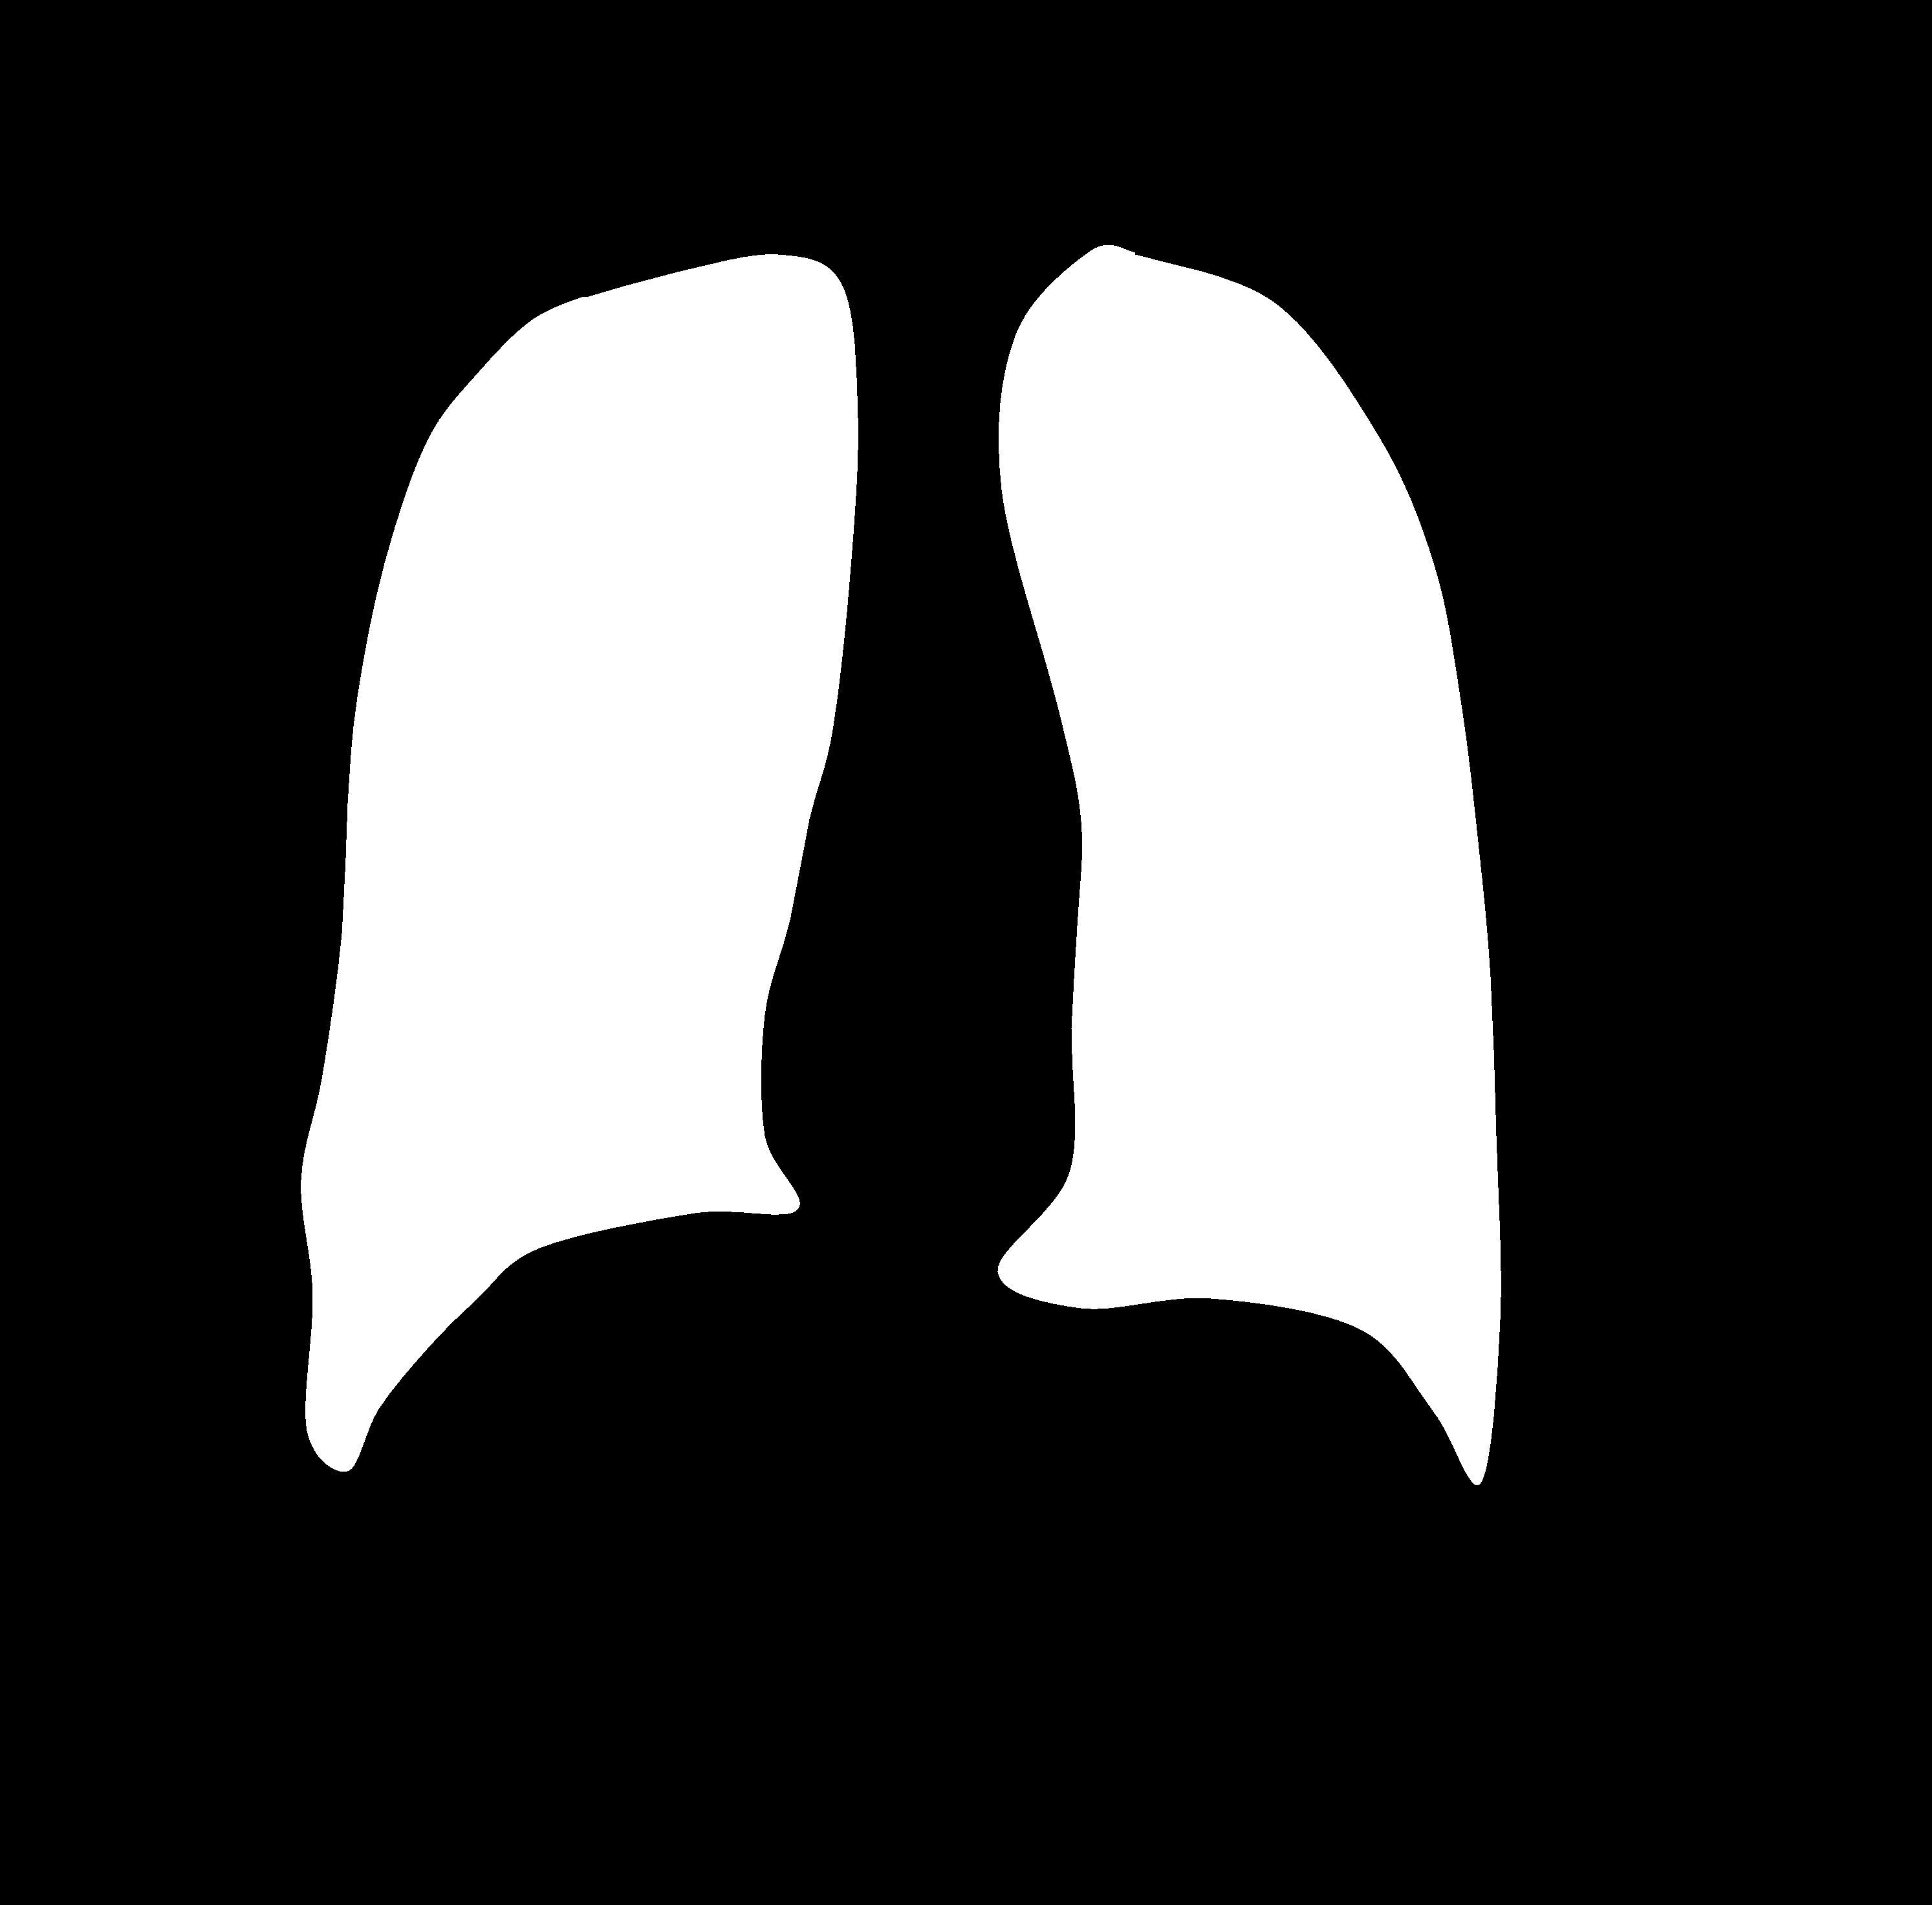heart: (752, 857, 1296, 1301)
left_lung: (307, 248, 858, 1490)
right_lung: (997, 246, 1508, 1486)
